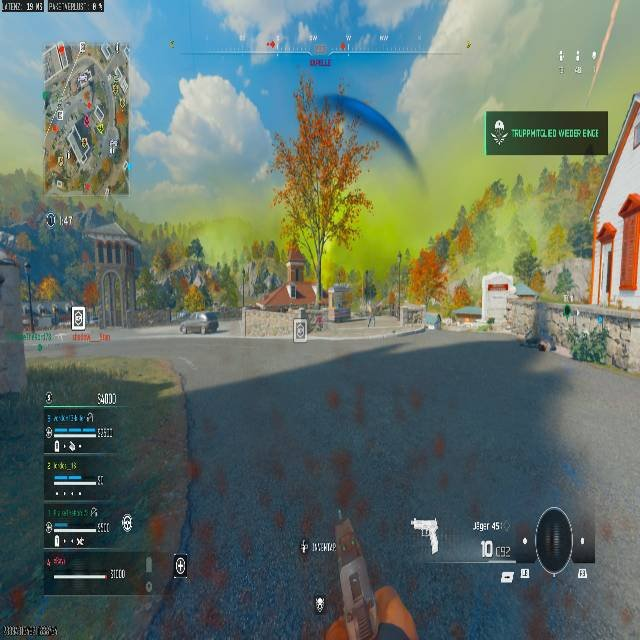head: (187, 240, 203, 260)
player: (366, 306, 376, 327)
